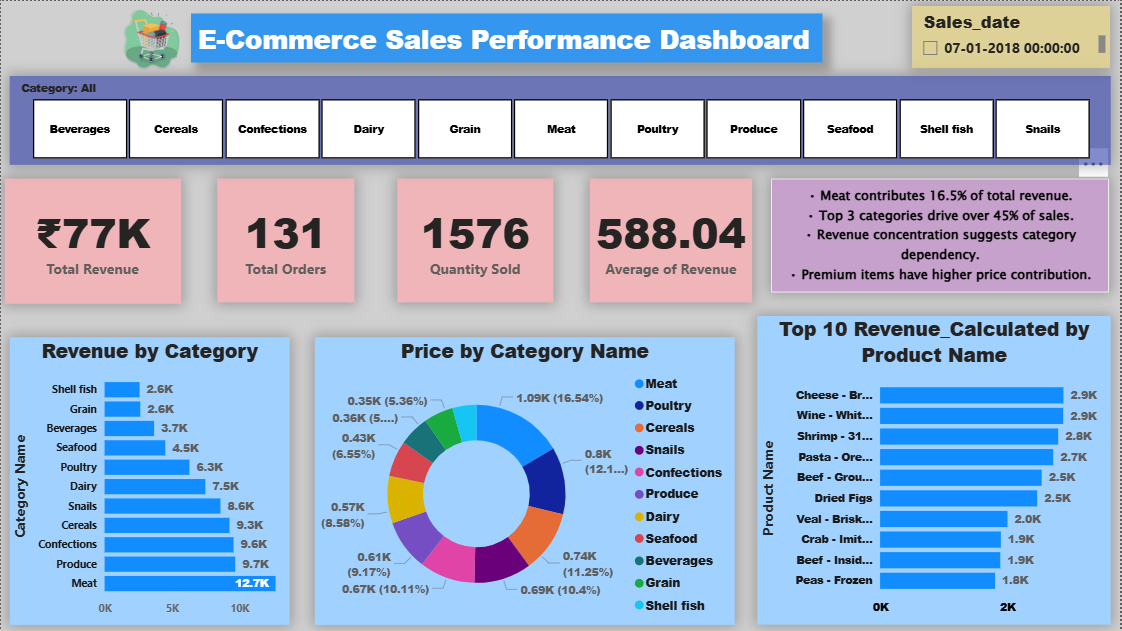

This screenshot's page, from the dashboard's own definition file:
{"tool":"powerbi","page":{"name":"DASHBOARD","canvas":[1280,720],"ordinal":0},"visuals":[{"type":"card","fields":{"Values":["Sum(Query1.Revenue_Calculated)"]},"box":[3.6,202.6,201.4,142.9],"z":0},{"type":"card","fields":{"Values":["CountNonNull(Query1.Sales_id)"]},"box":[246.4,202.6,157.1,141.4],"z":1000},{"type":"card","fields":{"Values":["Sum(Query1.Quantity)"]},"box":[452.2,202.6,178.6,141.4],"z":2000},{"type":"card","fields":{"Values":["Avg(Query1.Revenue_Calculated)"]},"box":[672.6,202.6,185.7,141.4],"z":3000},{"type":"clusteredBarChart","title":"Revenue by Category","fields":{"Category":["Query1.CategoryName"],"Y":["Sum(Query1.Revenue_Calculated)"]},"box":[10,384.3,320,328.6],"z":4000},{"type":"textbox","box":[880,202.9,387.1,130],"z":5000},{"type":"clusteredBarChart","fields":{"Category":["Query1.ProductName"],"Y":["Sum(Query1.Revenue_Calculated)"]},"box":[864.3,360,404.3,352.9],"z":6000},{"type":"slicer","fields":{"Values":["Query1.CategoryName"]},"box":[10,85.7,1258.6,101.4],"z":7000},{"type":"slicer","fields":{"Values":["Query1.Sales_date"]},"box":[1041.4,5.7,225.7,71.4],"z":8000},{"type":"donutChart","fields":{"Y":["Sum(Query1.Price)"],"Category":["Query1.CategoryName"]},"box":[358.6,384.3,480,328.6],"z":9000},{"type":"shape","box":[217.1,14.3,721.4,55.7],"z":10000},{"type":"image","box":[125.7,0,91.4,85.7],"z":11000}]}

Visuals, with their boxes in screenshot pixels (x1, y1, x2, y2), scaled from the page's 1280x720 canvas onto the 1122x631 screenshot:
card - Sum(Query1.Revenue_Calculated): [left=3, top=178, right=180, bottom=303]
card - CountNonNull(Query1.Sales_id): [left=216, top=178, right=354, bottom=301]
card - Sum(Query1.Quantity): [left=396, top=178, right=553, bottom=301]
card - Avg(Query1.Revenue_Calculated): [left=590, top=178, right=752, bottom=301]
"Revenue by Category" clusteredBarChart: [left=9, top=337, right=289, bottom=625]
textbox: [left=771, top=178, right=1111, bottom=292]
clusteredBarChart - Query1.ProductName x Sum(Query1.Revenue_Calculated): [left=758, top=316, right=1112, bottom=625]
slicer - Query1.CategoryName: [left=9, top=75, right=1112, bottom=164]
slicer - Query1.Sales_date: [left=913, top=5, right=1111, bottom=68]
donutChart - Sum(Query1.Price) x Query1.CategoryName: [left=314, top=337, right=735, bottom=625]
shape: [left=190, top=13, right=823, bottom=61]
image: [left=110, top=0, right=190, bottom=75]
